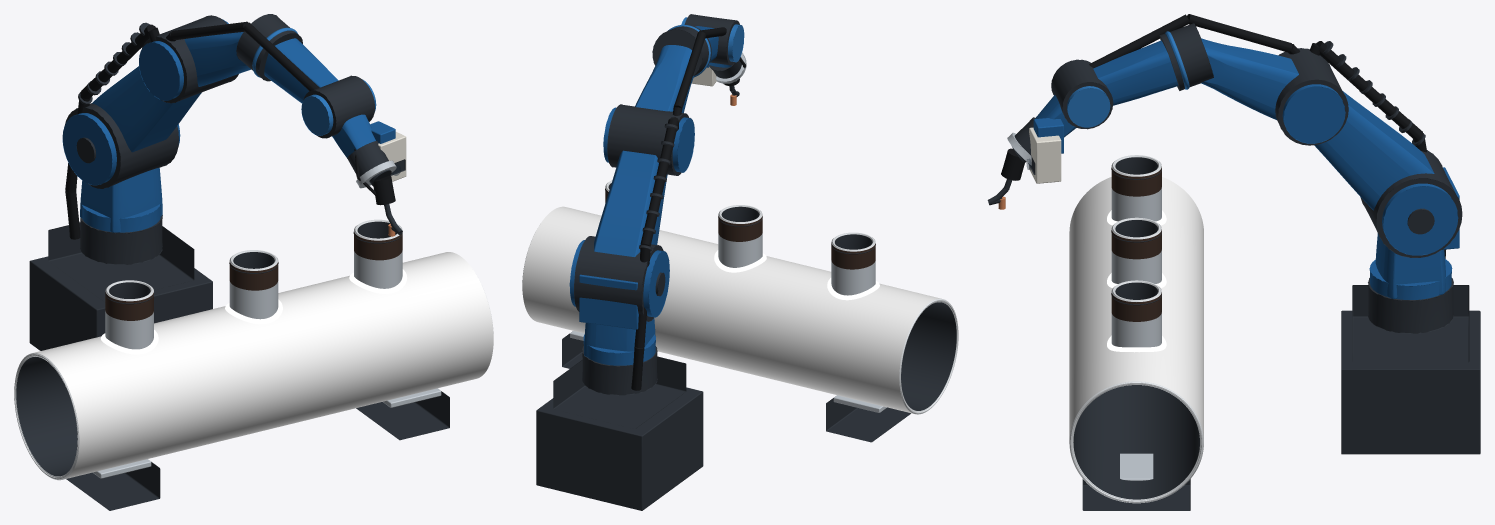
The model's file is welding.glb.
The picture shows the model from 3 angles, left to right: view 1: azimuth 30°, elevation 25°; view 2: azimuth 150°, elevation 25°; view 3: azimuth 270°, elevation 25°; orthographic projection. The views are drawn at different scales.
Parts seen in each view (by area): view 1: header_pipe, robot_riser, robot_pedestal, upper_arm_casting, nozzle_2, nozzle_1, j1_rising_torso, nozzle_3, pedestal_column, shoulder_blue_cap, pipe_support_1, pipe_support_2 (+16 smaller); view 2: header_pipe, robot_riser, robot_pedestal, upper_arm_casting, shoulder_pivot, elbow_pivot, nozzle_1, nozzle_2, slim_forearm, pipe_support_1, pedestal_column, shoulder_rear_web (+12 smaller); view 3: header_pipe, robot_riser, upper_arm_casting, robot_pedestal, slim_forearm, shoulder_blue_cap.001, j4_roll_housing, nozzle_3, pedestal_column, elbow_cap.001, nozzle_2, nozzle_1 (+15 smaller).
Part boxes in pixels (x1,y1,x2,y2): header_pipe: (15, 252, 493, 480); robot_riser: (29, 256, 212, 350); robot_pedestal: (48, 222, 194, 302); upper_arm_casting: (92, 66, 201, 152); nozzle_2: (229, 252, 278, 319); nozzle_1: (105, 282, 153, 349); j1_rising_torso: (80, 167, 162, 232); nozzle_3: (354, 221, 402, 288); pedestal_column: (80, 215, 162, 264); shoulder_blue_cap: (62, 113, 116, 185); pipe_support_1: (66, 462, 160, 510); pipe_support_2: (356, 391, 449, 440); header_pipe: (522, 206, 957, 414); robot_riser: (536, 387, 703, 510); robot_pedestal: (553, 356, 686, 428); upper_arm_casting: (594, 150, 667, 256); shoulder_pivot: (574, 236, 663, 321); elbow_pivot: (607, 104, 689, 175); nozzle_1: (831, 234, 875, 295); nozzle_2: (718, 206, 762, 267); slim_forearm: (635, 45, 693, 112); pipe_support_1: (826, 398, 910, 442); pedestal_column: (582, 346, 657, 395); shoulder_rear_web: (579, 274, 638, 329); header_pipe: (1069, 177, 1203, 503); robot_riser: (1341, 310, 1480, 454); upper_arm_casting: (1314, 91, 1434, 210); robot_pedestal: (1352, 285, 1469, 362); slim_forearm: (1201, 38, 1298, 119); shoulder_blue_cap.001: (1382, 183, 1458, 255); j4_roll_housing: (1093, 40, 1178, 105); nozzle_3: (1111, 282, 1161, 347); pedestal_column: (1368, 278, 1453, 333); elbow_cap.001: (1282, 84, 1345, 143); nozzle_2: (1111, 219, 1161, 283); nozzle_1: (1111, 157, 1161, 221).
Bounding box in the file's own units: 2.21 × 2.06 × 2.19.
